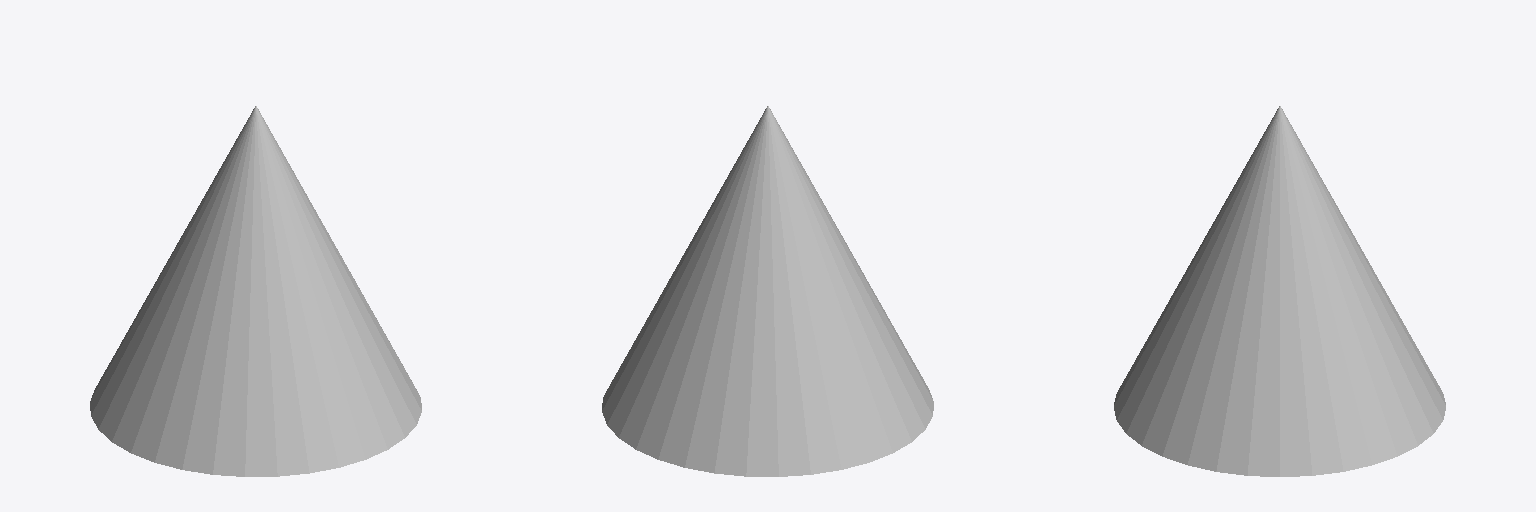
File: canopy.obj
The picture shows the model from 3 angles: view 1: azimuth 30°, elevation 25°; view 2: azimuth 150°, elevation 25°; view 3: azimuth 270°, elevation 25°; orthographic projection.
Parts seen in each view (by area): view 1: Douglas_Fir; view 2: Douglas_Fir; view 3: Douglas_Fir.
Boxes of the visible parts, box(x1,y1,x2,y2) form: Douglas_Fir: box(90, 106, 421, 476); Douglas_Fir: box(602, 106, 933, 476); Douglas_Fir: box(1114, 106, 1445, 476).
Bounding box in the file's own units: 0.3048 × 0.3048 × 0.3048.